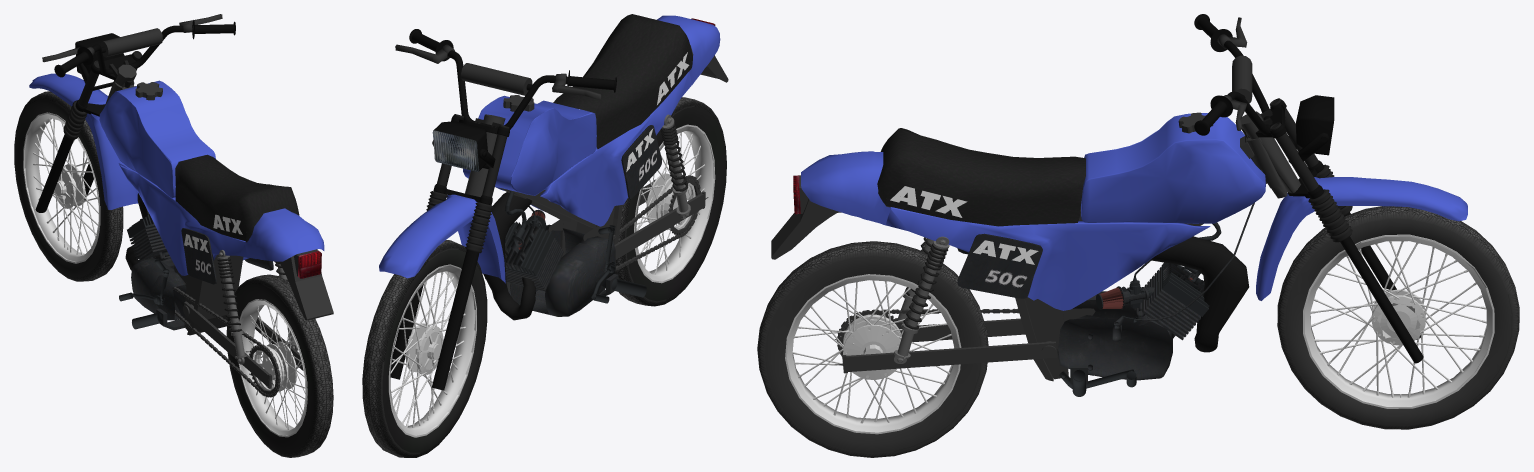
File: tomos_atx_50c.glb
3 renders of one model, left to right at view 1: azimuth 30°, elevation 25°; view 2: azimuth 150°, elevation 25°; view 3: azimuth 270°, elevation 25°, orthographic. The views are drawn at different scales.
Parts seen in each view (by area): view 1: body, wheel rear, seat, wheel front, wheel rim front, body base, wheel rim rear, front mud, engine, rear arm, front top, front top misc (+11 smaller); view 2: body, seat, wheel front, wheel rim front, engine, wheel rear, wheel rim rear, front mud, body base, front top, front bottom, engine2 (+11 smaller); view 3: body, wheel rear, wheel front, seat, wheel rim front, wheel rim rear, engine, body base, front mud, rear arm, exhaust, engine2 (+10 smaller).
Part boxes in pixels (x1,y1,x2,y2): body: [99, 80, 324, 275]; wheel rear: [226, 274, 333, 457]; seat: [175, 154, 299, 241]; wheel front: [14, 91, 123, 281]; wheel rim front: [23, 112, 100, 263]; body base: [104, 64, 333, 335]; wheel rim rear: [238, 299, 307, 437]; front mud: [29, 73, 138, 209]; engine: [119, 208, 187, 330]; rear arm: [172, 287, 303, 397]; front top: [54, 20, 235, 116]; front top misc: [42, 14, 222, 62]; body: [463, 15, 720, 226]; seat: [553, 14, 692, 149]; wheel front: [362, 240, 487, 457]; wheel rim front: [388, 264, 476, 437]; engine: [485, 222, 646, 316]; wheel rear: [615, 97, 726, 306]; wheel rim rear: [634, 124, 715, 283]; front mud: [379, 194, 505, 283]; body base: [465, 45, 728, 257]; front top: [409, 29, 616, 205]; front bottom: [390, 250, 479, 390]; engine2: [505, 191, 563, 290]; body: [801, 113, 1265, 310]; wheel rear: [757, 241, 988, 457]; wheel front: [1277, 206, 1519, 429]; seat: [877, 128, 1085, 226]; wheel rim front: [1303, 234, 1494, 408]; wheel rim rear: [785, 274, 961, 434]; engine: [1057, 263, 1204, 396]; body base: [771, 111, 1300, 381]; front mud: [1256, 177, 1467, 300]; rear arm: [834, 308, 1057, 373]; exhaust: [1150, 236, 1249, 352]; engine2: [1096, 202, 1254, 340].
Size of the model in its own units: 0.6688 by 1.12 by 1.97.
19 materials, 7 textured.
